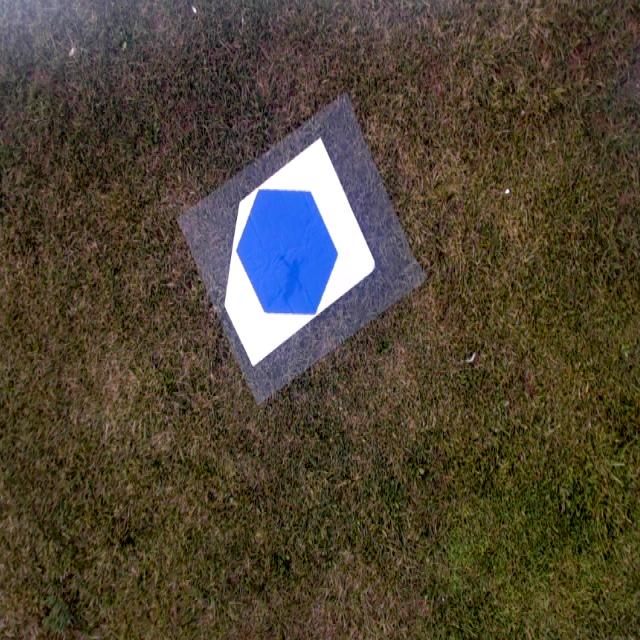blue_hexagon: (236, 188, 338, 314)
